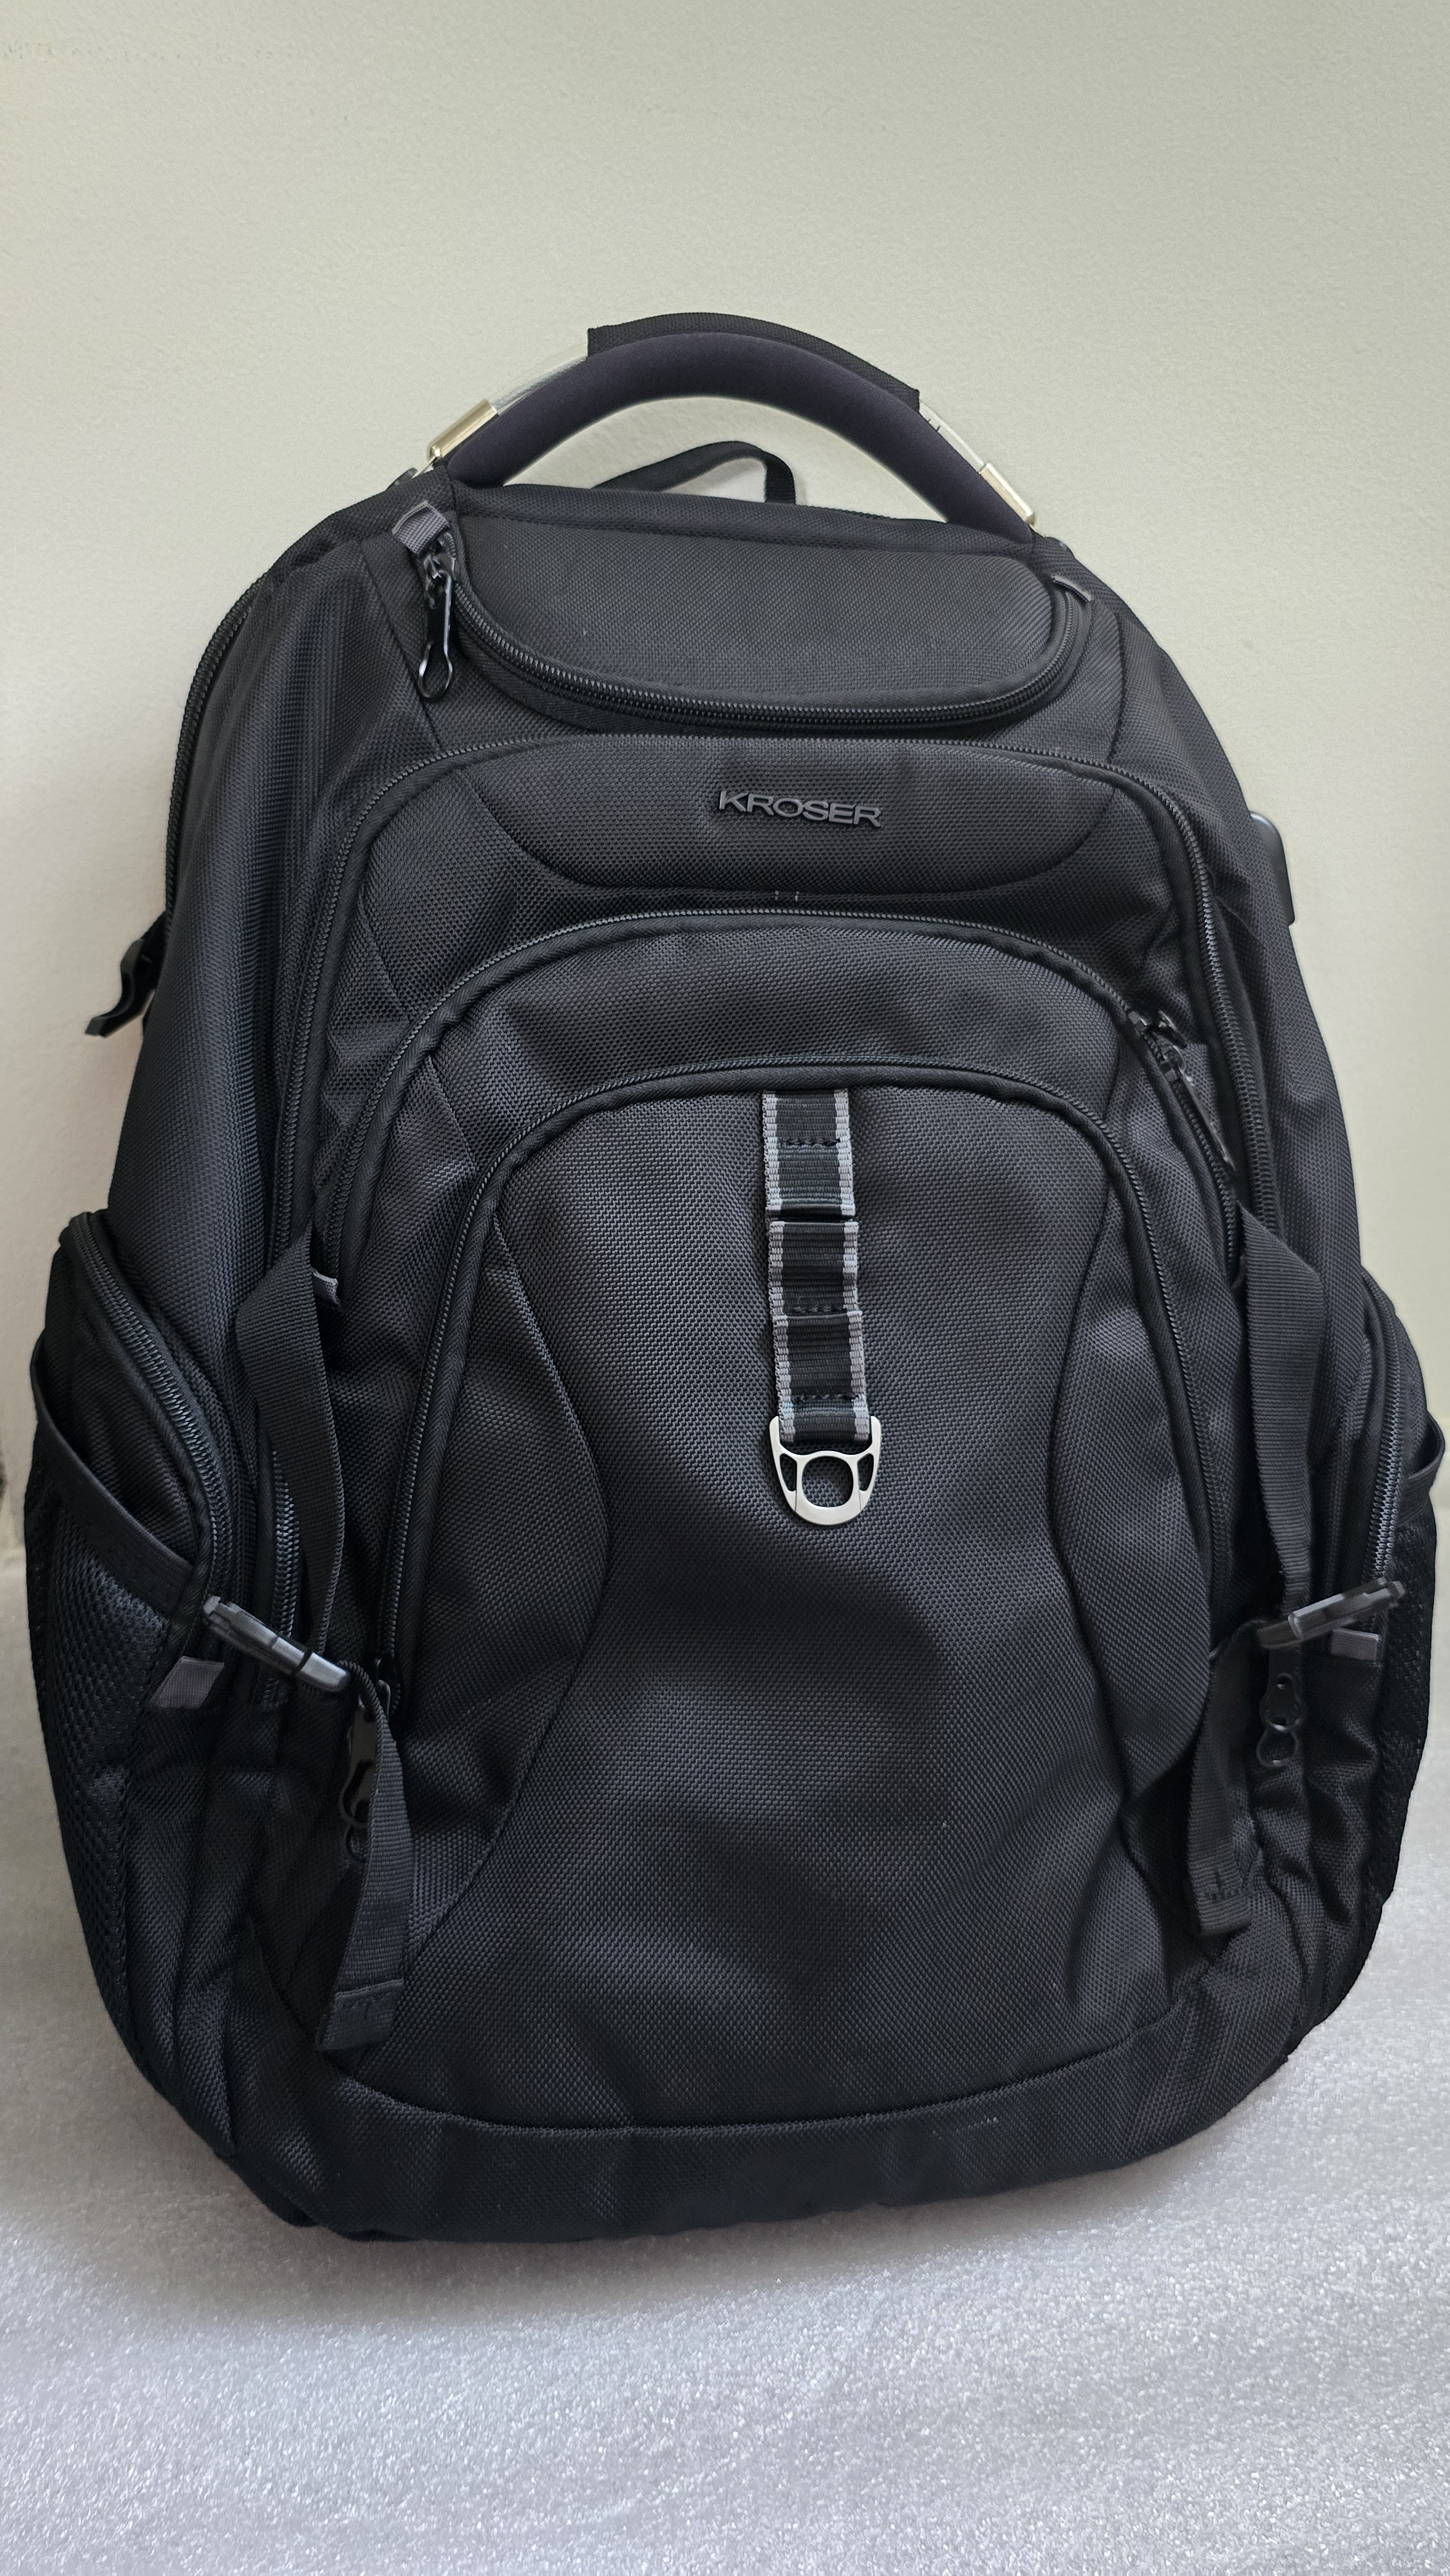bag: (51, 290, 1450, 2233)
